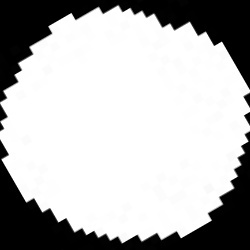spot: (1, 7, 249, 243)
